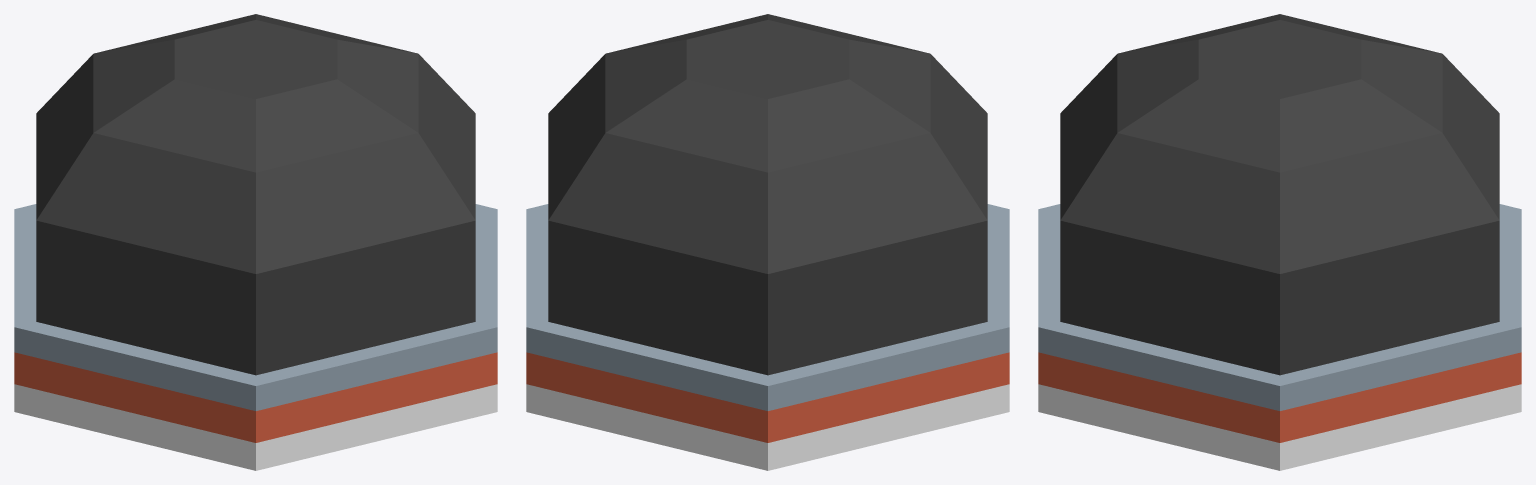
The model's file is buildingBiodome_exclusive.fbx.
The picture shows the model from 3 angles, left to right: view 1: azimuth 30°, elevation 25°; view 2: azimuth 150°, elevation 25°; view 3: azimuth 270°, elevation 25°; orthographic projection.
Parts seen in each view (by area): view 1: buildingBiodome_exclusive; view 2: buildingBiodome_exclusive; view 3: buildingBiodome_exclusive.
Part boxes in pixels (<box>): buildingBiodome_exclusive: <box>14,14,497,470</box>; buildingBiodome_exclusive: <box>526,14,1009,470</box>; buildingBiodome_exclusive: <box>1038,14,1521,470</box>.
Bounding box in the file's own units: 12.7 × 7.37 × 11.
